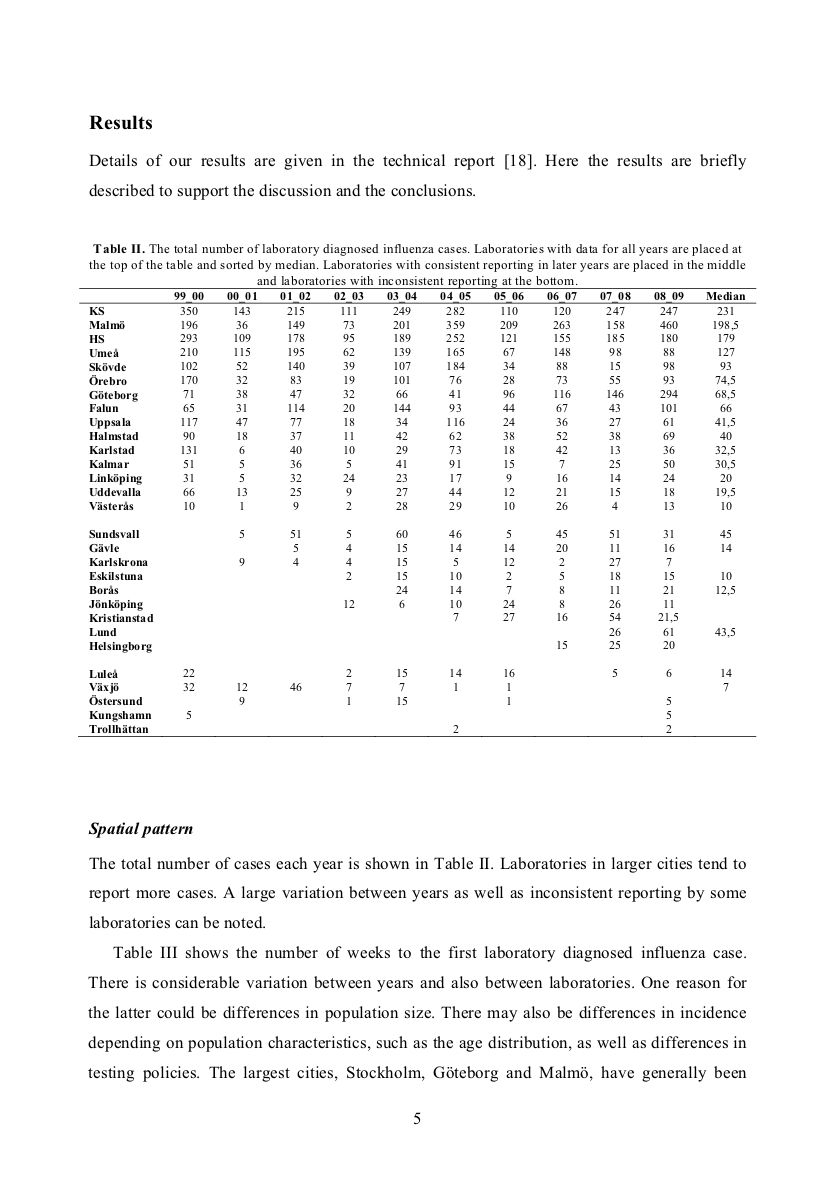Table: (78, 244, 756, 736)
